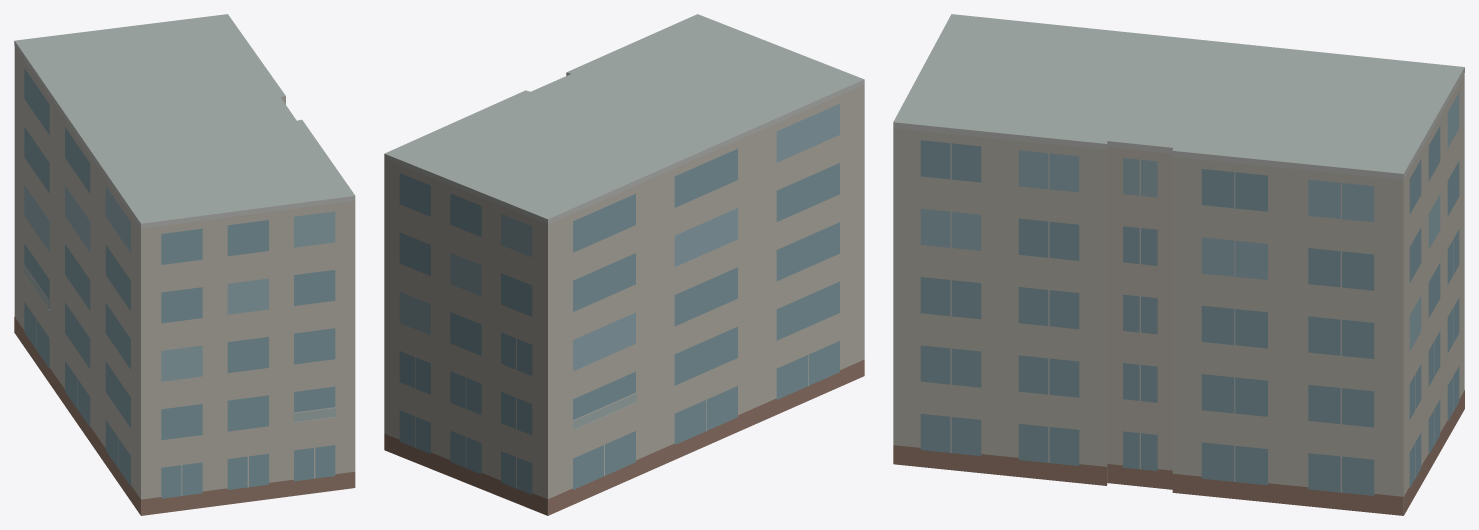
Rendered from survey-upis-32889821.glb.
3 renders of one model, left to right at view 1: azimuth 30°, elevation 25°; view 2: azimuth 150°, elevation 25°; view 3: azimuth 270°, elevation 25°, orthographic. The views are drawn at different scales.
Parts seen in each view (by area): view 1: survey-upis-32889821.tmp; view 2: survey-upis-32889821.tmp; view 3: survey-upis-32889821.tmp.
Boxes of the visible parts, <box> form: survey-upis-32889821.tmp: <box>14,14,355,515</box>; survey-upis-32889821.tmp: <box>384,14,864,515</box>; survey-upis-32889821.tmp: <box>893,14,1464,515</box>.
Bounding box in the file's own units: 14.25 × 14.2 × 21.52.
